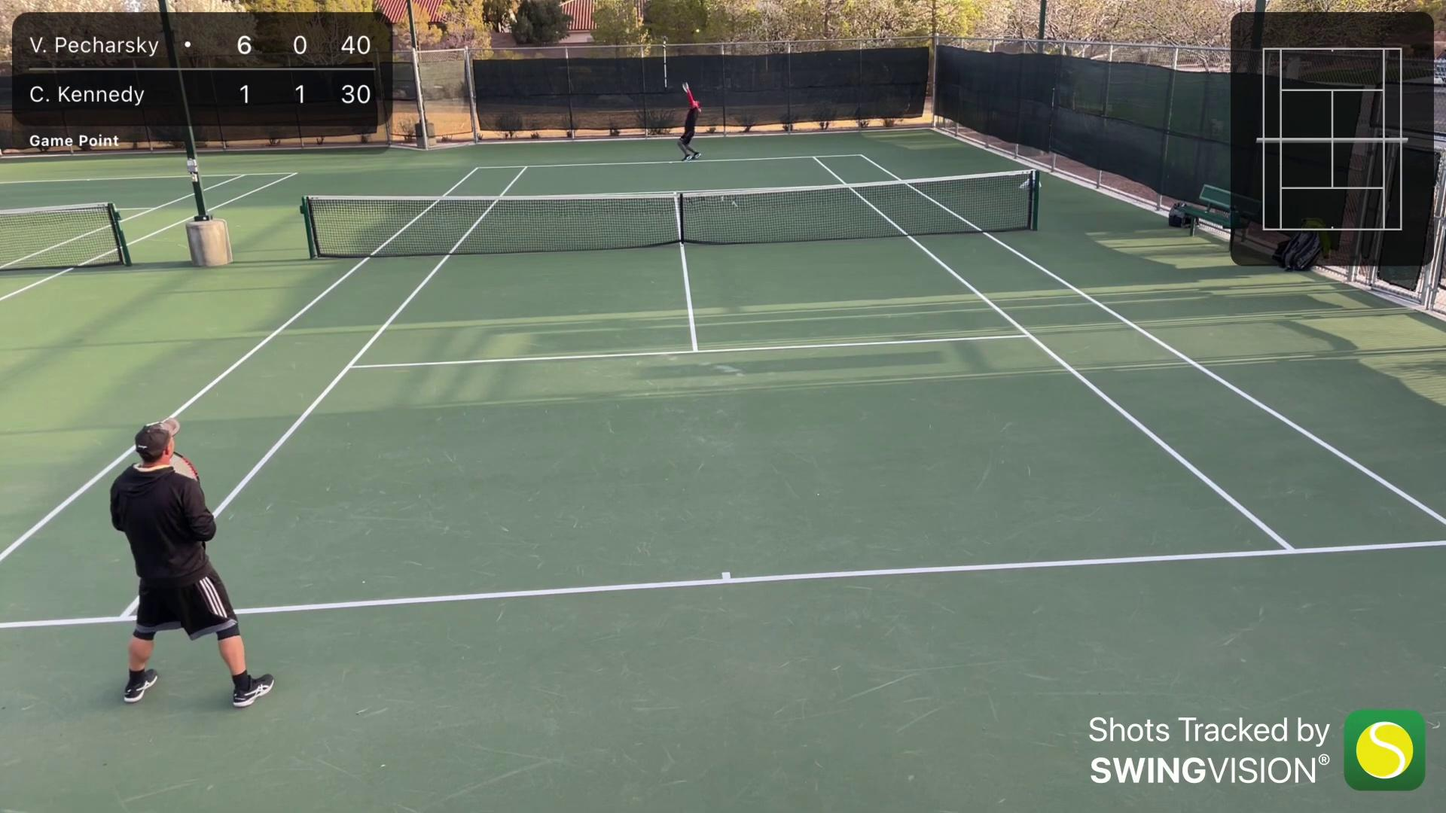ball: (695, 28, 700, 33)
